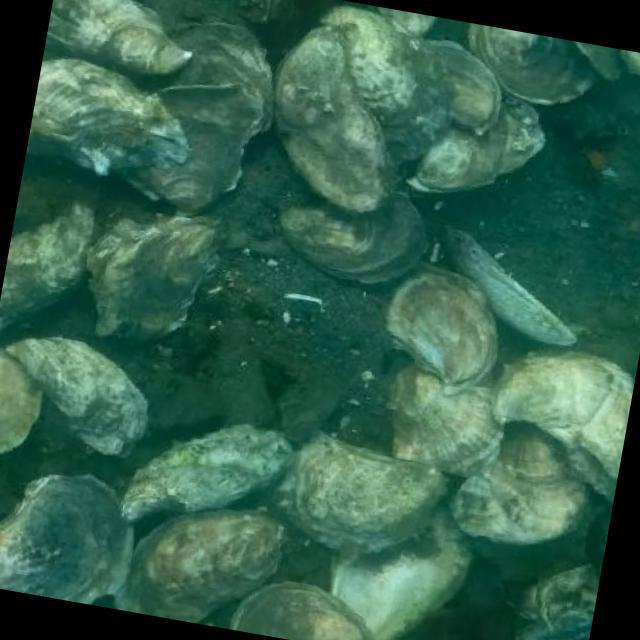Oyster-Closed: (130, 15, 274, 205), (20, 58, 192, 202), (280, 33, 394, 217), (487, 354, 640, 486), (372, 354, 518, 491), (0, 471, 146, 605), (16, 337, 178, 453), (323, 522, 487, 636), (318, 1, 442, 150), (90, 216, 236, 342), (288, 429, 452, 539), (270, 187, 456, 283), (442, 220, 578, 348), (133, 508, 279, 626), (381, 266, 502, 404), (460, 17, 610, 123), (0, 193, 112, 331), (455, 436, 589, 536), (419, 100, 551, 198), (35, 0, 188, 84), (130, 421, 282, 505), (228, 575, 401, 640), (502, 552, 620, 640), (412, 27, 500, 129), (0, 341, 50, 455), (560, 33, 636, 87), (374, 2, 438, 42), (619, 50, 639, 76)
